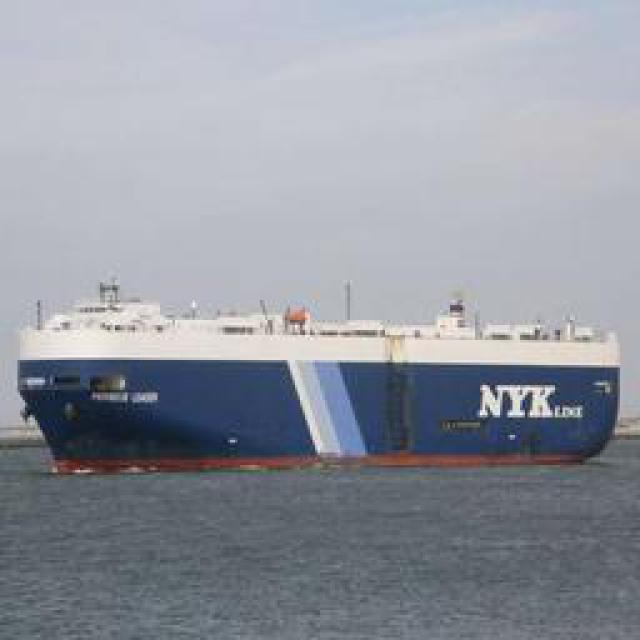Ship: (15, 270, 630, 473)
